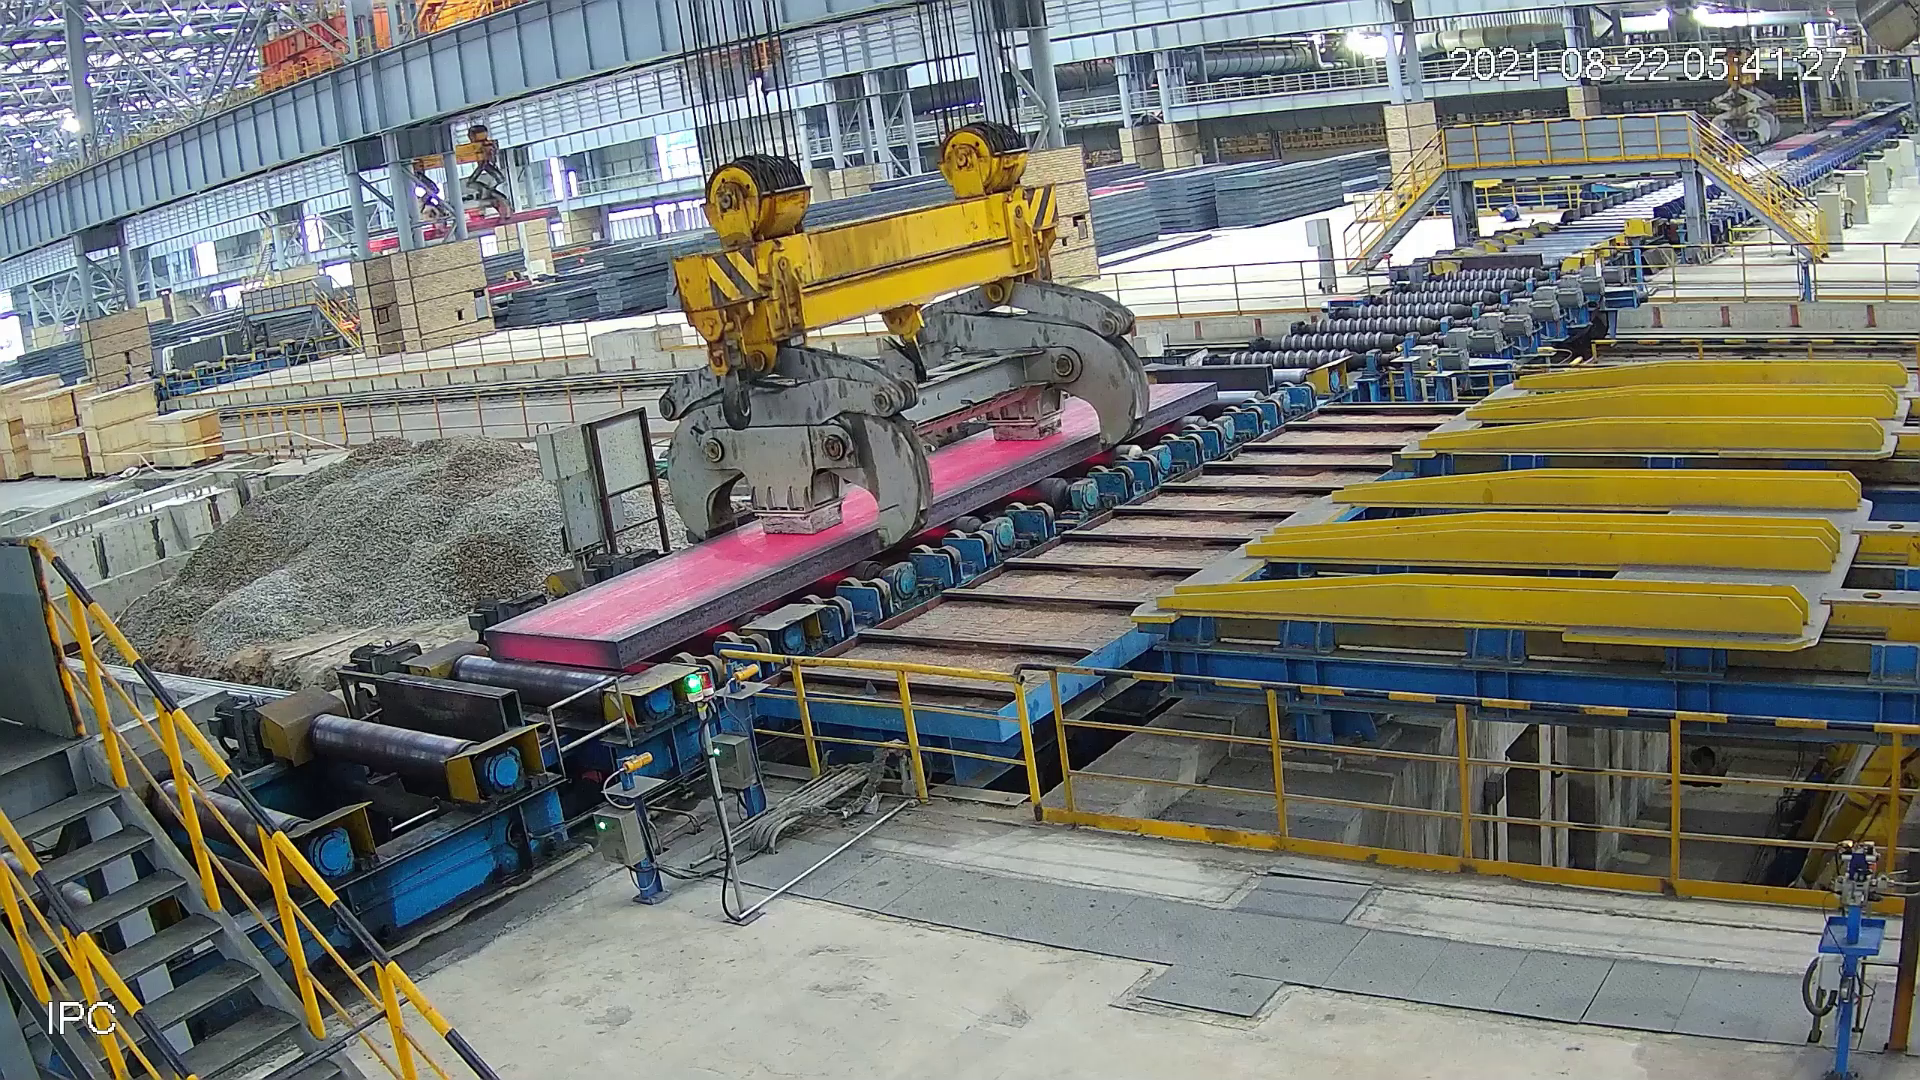craneandslab: (465, 127, 1244, 683), (1702, 36, 1787, 154)
